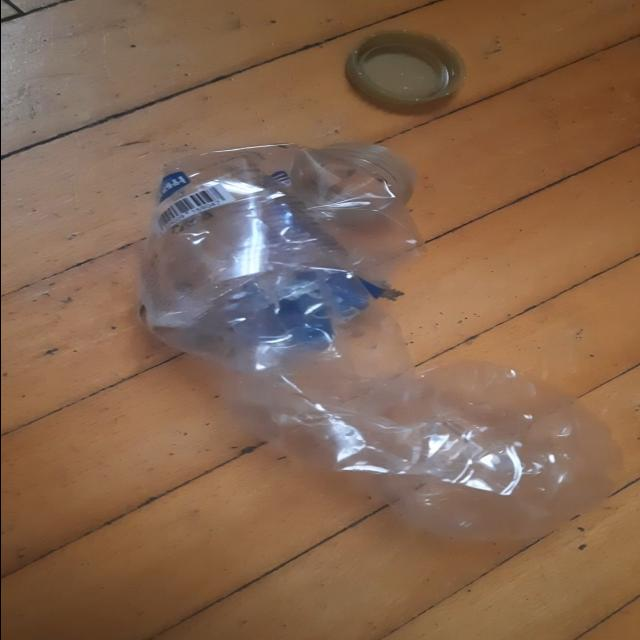Plastic: (138, 141, 624, 541)
